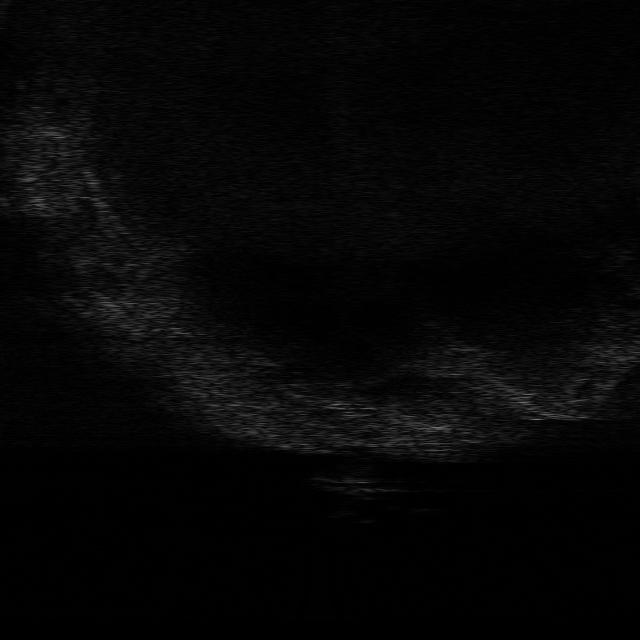plane: (308, 472, 404, 500)
